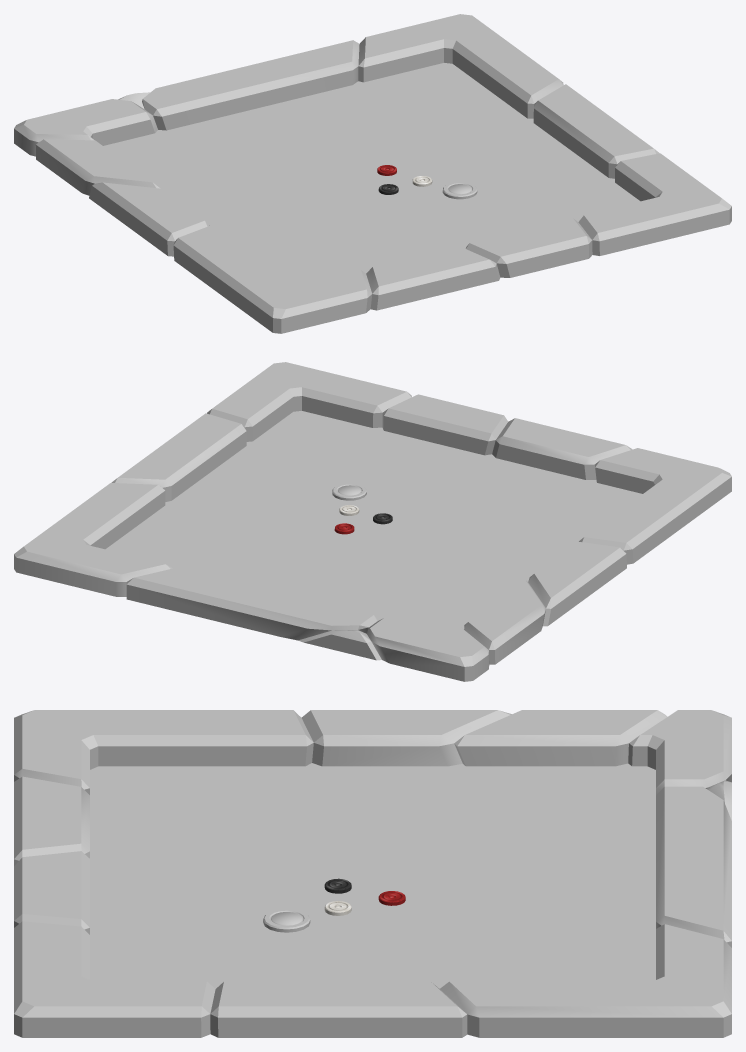
The model's file is carrom.FBX.
3 renders of one model, top to bottom at view 1: azimuth 30°, elevation 25°; view 2: azimuth 150°, elevation 25°; view 3: azimuth 270°, elevation 25°, orthographic. The views are drawn at different scales.
Parts seen in each view (by area): view 1: border, board; view 2: border, board; view 3: board, border, striker.
Boxes of the visible parts, x1,y1,x2,y2 form: border: [14, 14, 731, 333]; board: [103, 63, 640, 283]; border: [14, 362, 731, 681]; board: [105, 411, 642, 631]; board: [90, 763, 655, 988]; border: [14, 710, 731, 1037]; striker: [263, 908, 310, 932].
Size of the model in its own units: 93.5 by 4.35 by 93.5.
